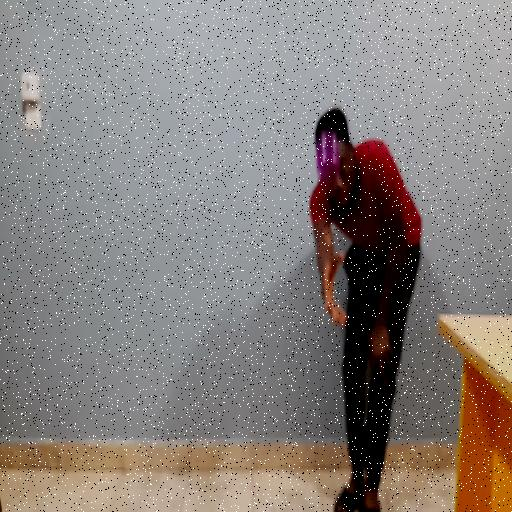plastic-ball: (317, 130, 339, 183)
